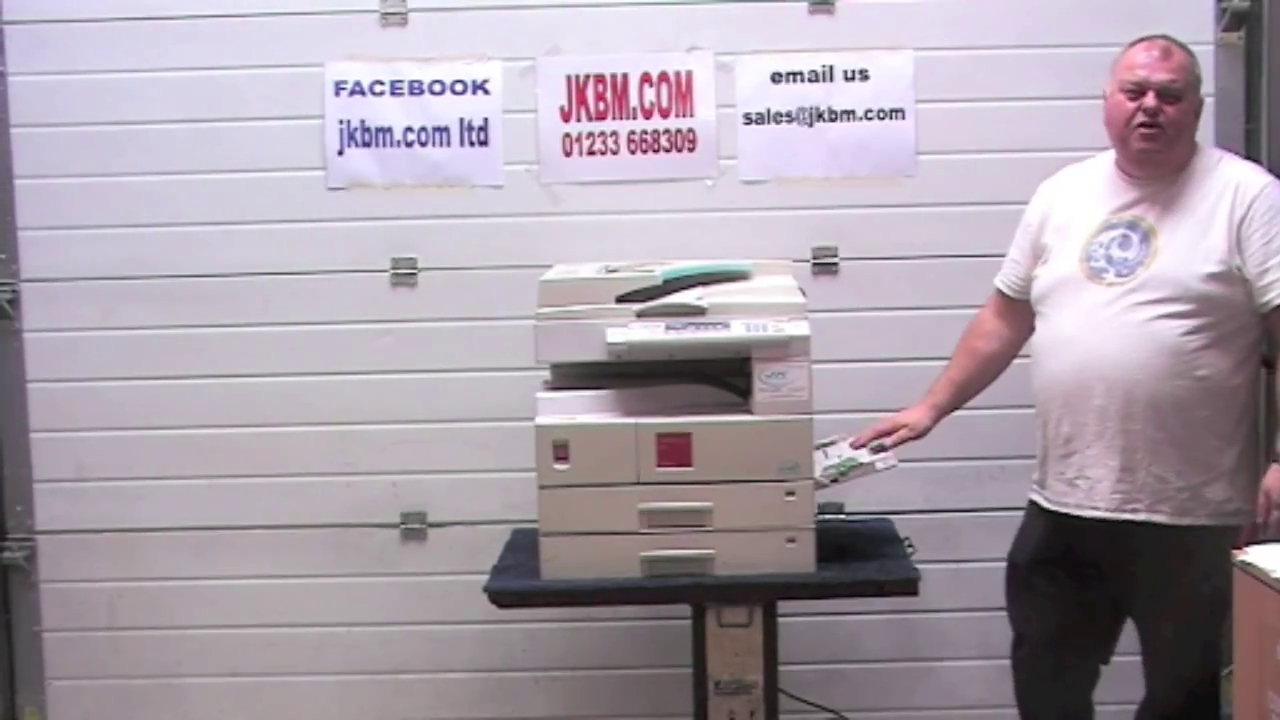person: (850, 34, 1280, 719)
